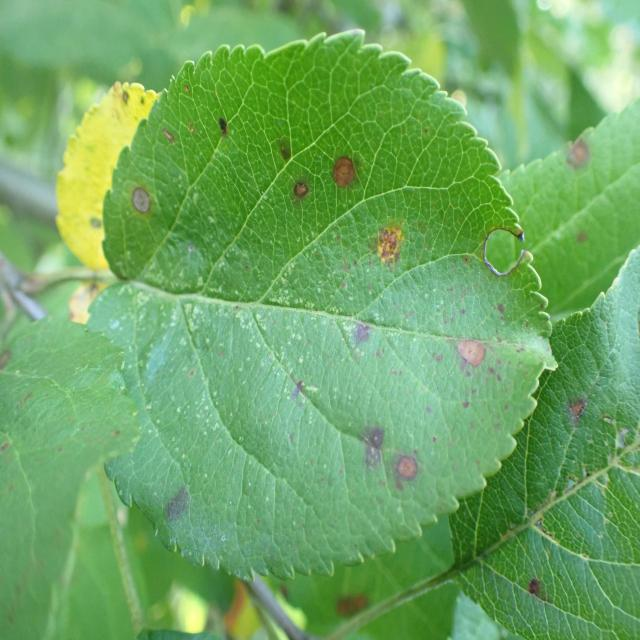rust: (85, 28, 559, 584)
